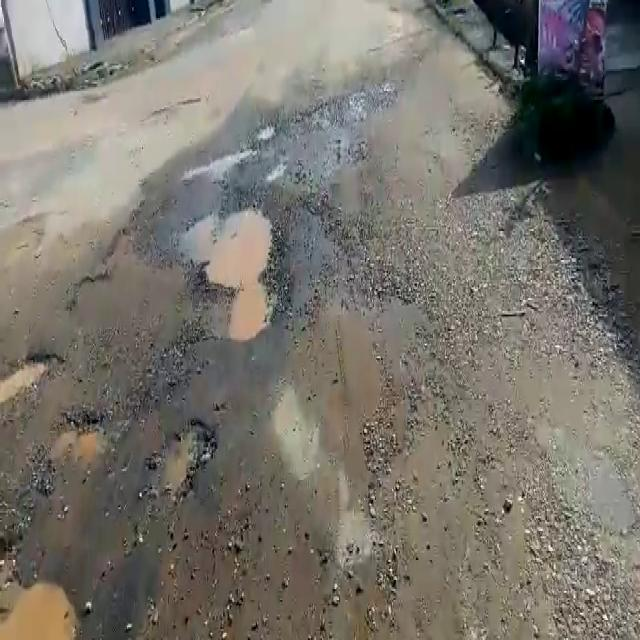Pothole: (162, 198, 286, 336), (144, 416, 217, 499), (0, 579, 79, 640), (0, 346, 64, 419), (252, 122, 279, 140)
